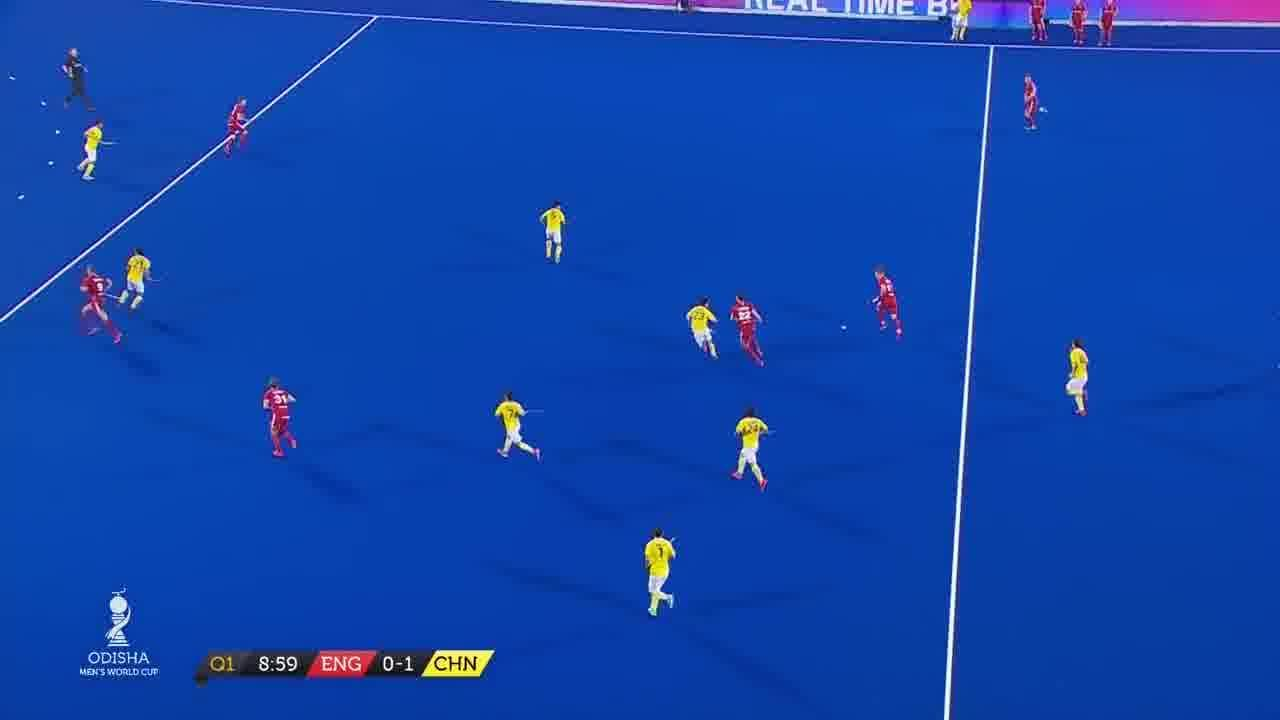ball: (834, 320, 858, 342)
